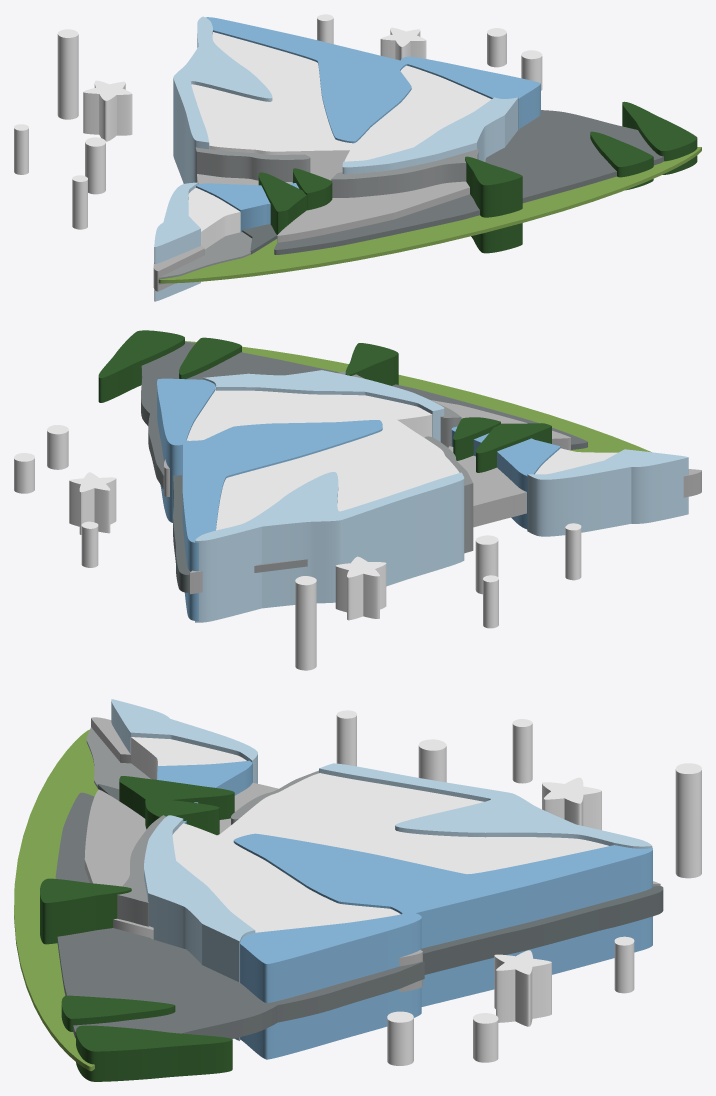
The model's file is emoji_u1f3d4.glb.
3 renders of one model, top to bottom at view 1: azimuth 30°, elevation 25°; view 2: azimuth 150°, elevation 25°; view 3: azimuth 270°, elevation 25°, orthographic. The views are drawn at different scales.
Visible parts, largest first — view 1: emoji_u1f3d4; view 2: emoji_u1f3d4; view 3: emoji_u1f3d4.
Part boxes in pixels (bbox=[...]): emoji_u1f3d4: bbox=[14, 14, 701, 301]; emoji_u1f3d4: bbox=[14, 330, 701, 670]; emoji_u1f3d4: bbox=[14, 699, 701, 1081].
Size of the model in its own units: 0.0335 by 0.0048 by 0.0287.
